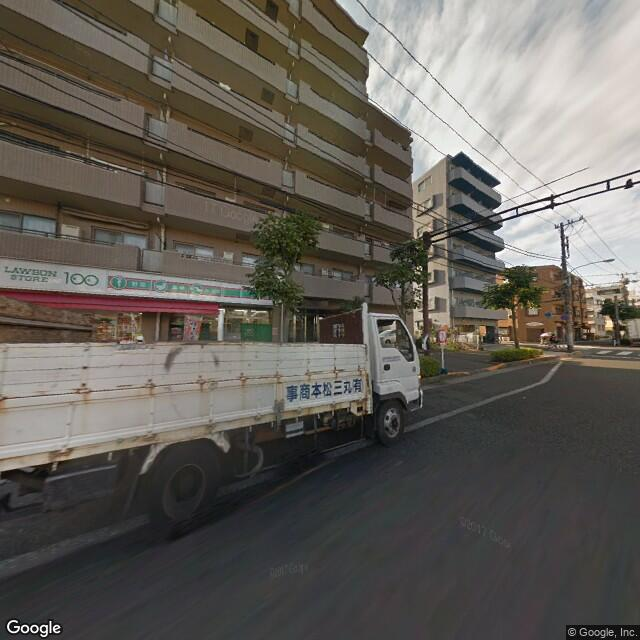lawson: (2, 255, 264, 311)
